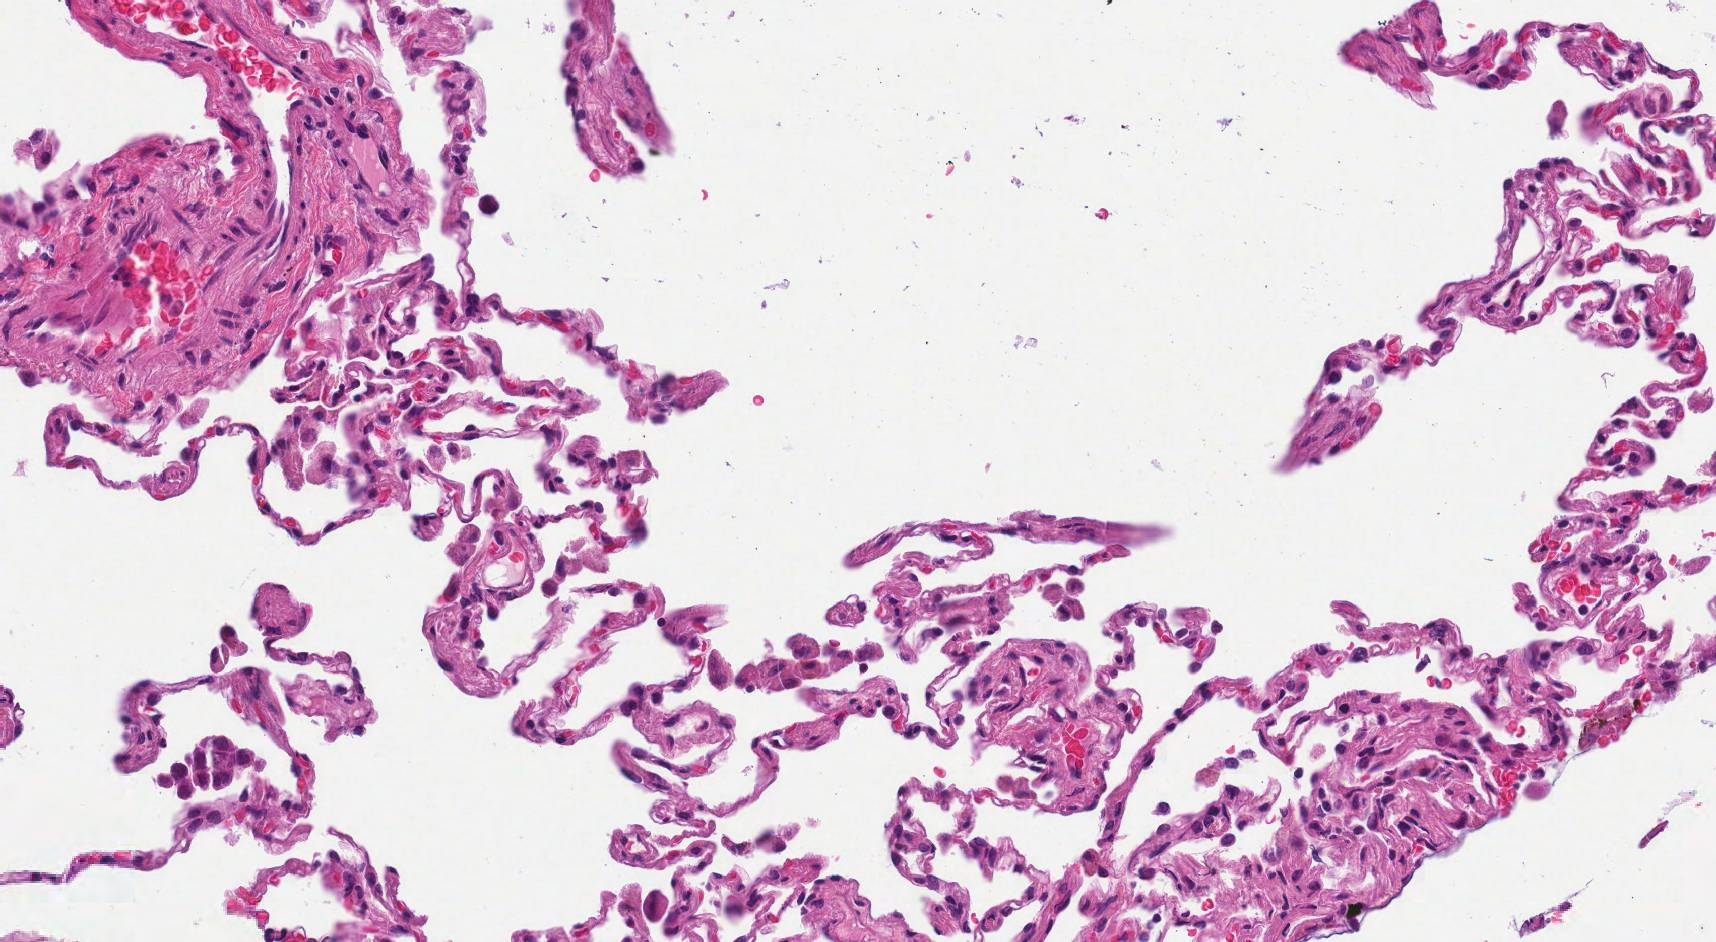stas: (154, 734, 255, 800)
